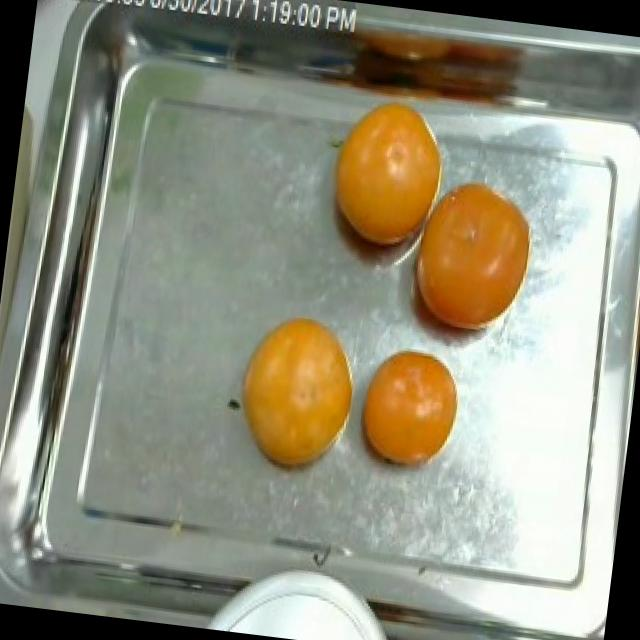Fruit: (392, 158, 545, 358), (219, 297, 373, 488), (309, 84, 454, 274), (344, 330, 474, 489)
